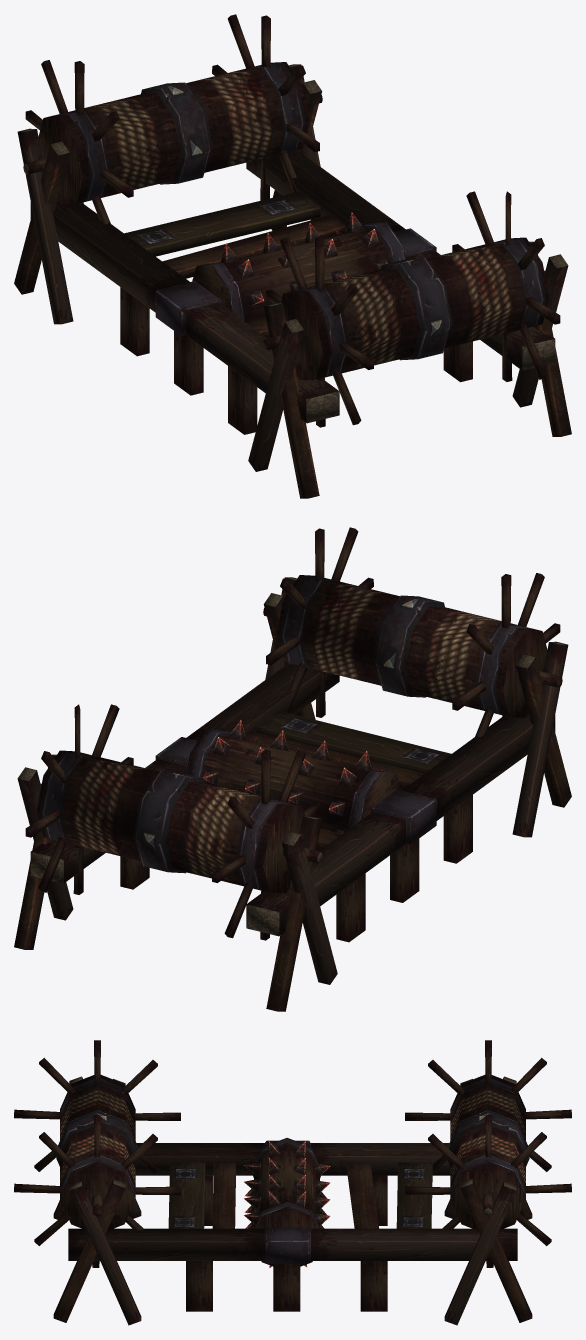
The model's file is B_jiaoxing001.fbx.
3 views of the same model, one above another, from view 1: azimuth 30°, elevation 25°; view 2: azimuth 150°, elevation 25°; view 3: azimuth 270°, elevation 25° (orthographic). The views are drawn at different scales.
Visible parts, largest first — view 1: B_jiaoxing001; view 2: B_jiaoxing001; view 3: B_jiaoxing001.
Boxes of the visible parts, x1=… form: B_jiaoxing001: x1=14, y1=14, x2=571, y2=498; B_jiaoxing001: x1=14, y1=527, x2=571, y2=1011; B_jiaoxing001: x1=14, y1=1040, x2=571, y2=1325.
Bounding box in the file's own units: 536 × 411 × 1082.
